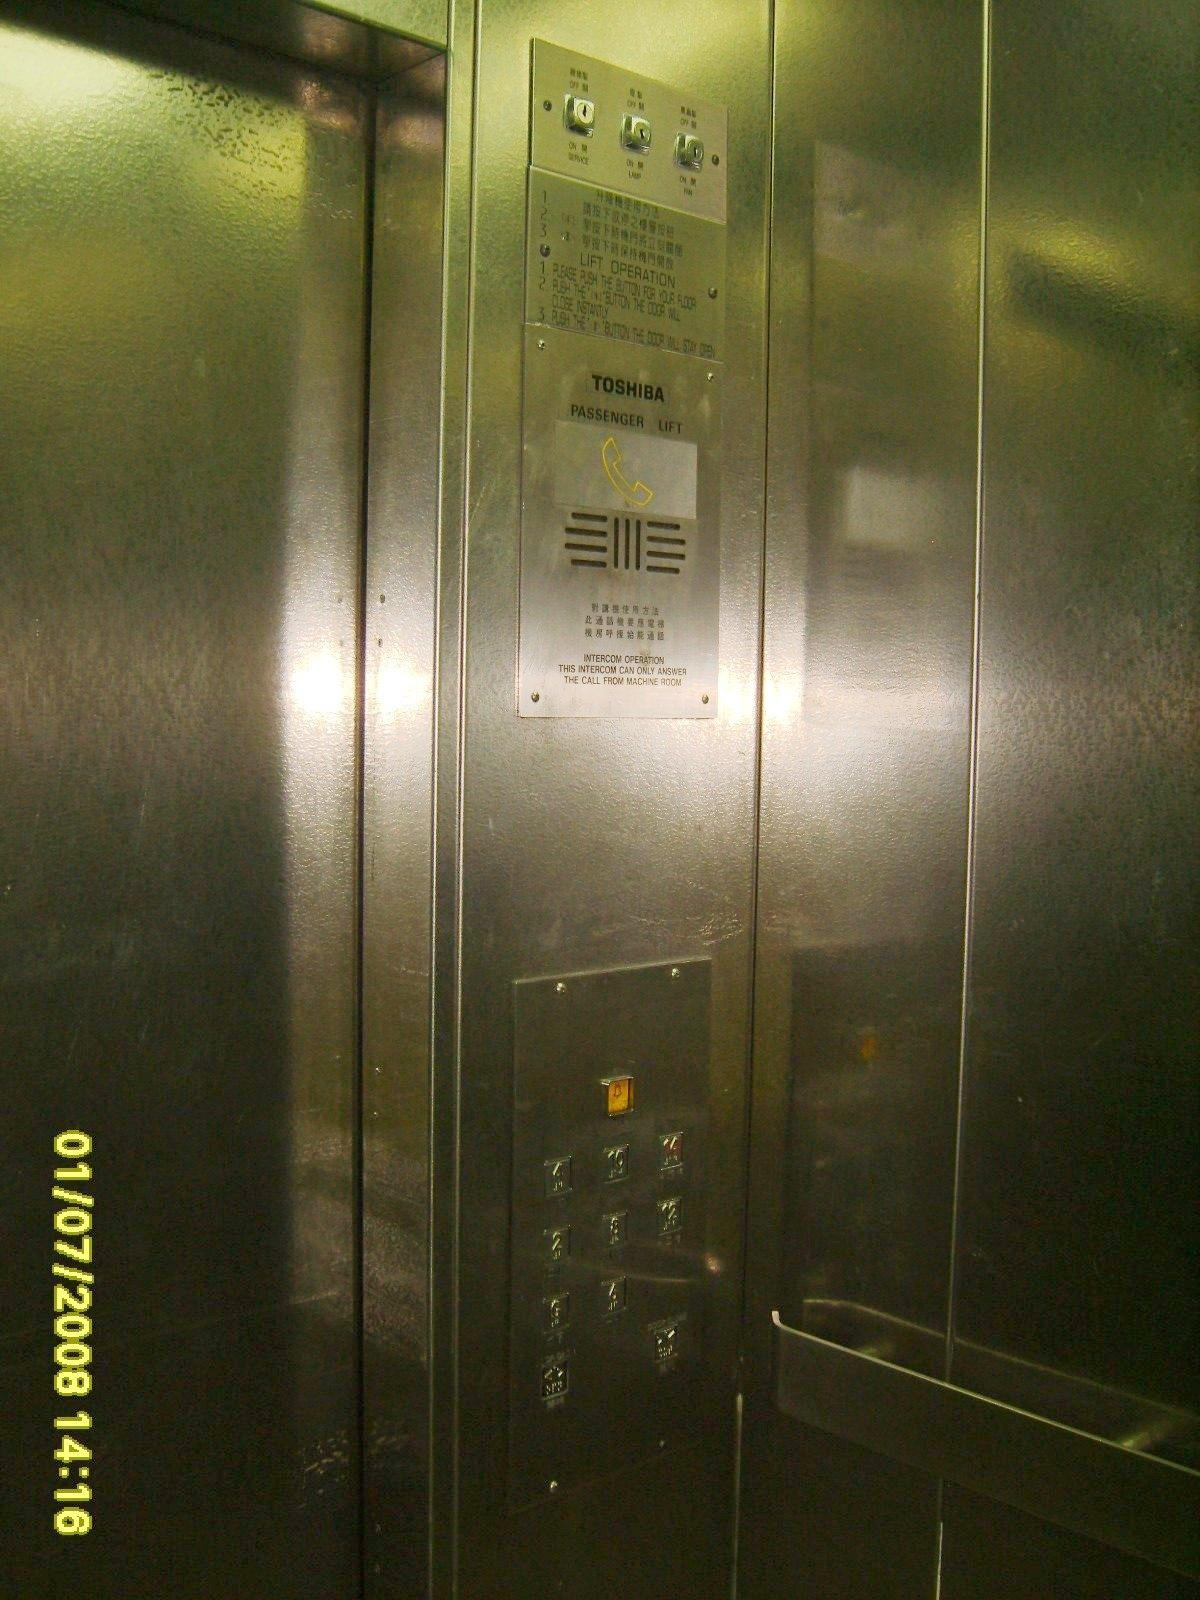1: (539, 1288, 577, 1342)
10: (597, 1136, 634, 1192)
12: (652, 1196, 692, 1246)
14: (650, 1125, 691, 1175)
2: (539, 1218, 577, 1272)
4: (541, 1153, 579, 1208)
6: (597, 1271, 634, 1327)
8: (597, 1204, 635, 1259)
alarm: (596, 1071, 640, 1120)
close: (648, 1324, 684, 1363)
keyhole: (560, 91, 603, 141), (616, 111, 657, 157), (669, 134, 711, 176)
open: (536, 1352, 574, 1407)
